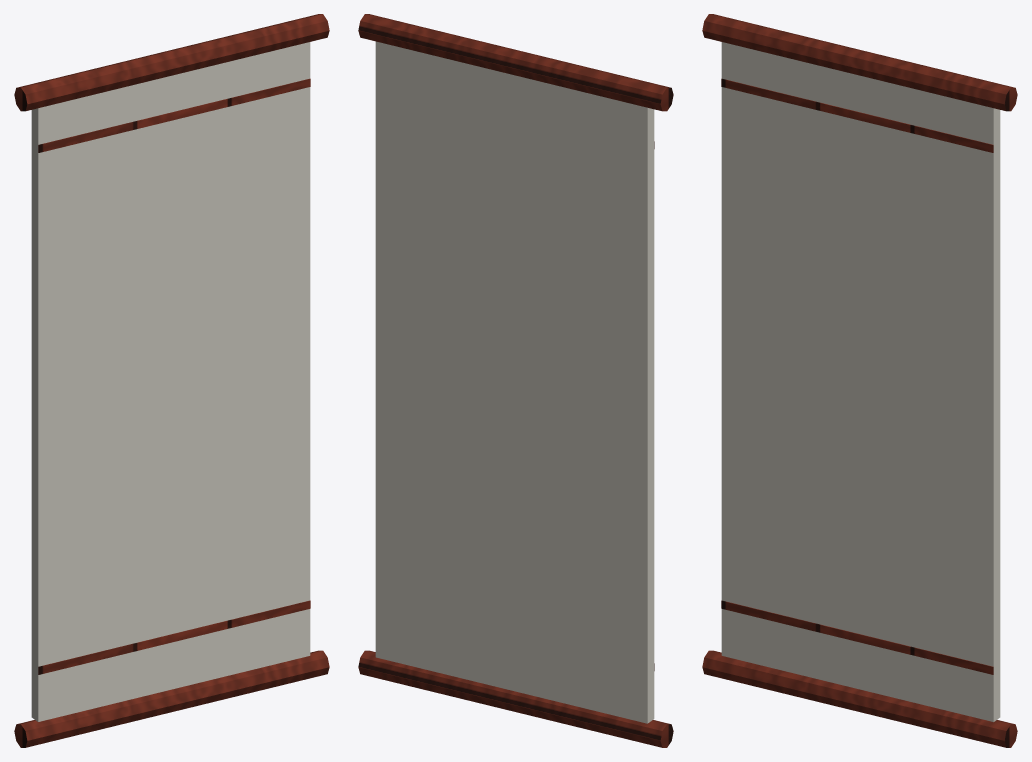
Rendered from Scroll.fbx.
The picture shows the model from 3 angles, left to right: view 1: azimuth 30°, elevation 25°; view 2: azimuth 150°, elevation 25°; view 3: azimuth 330°, elevation 25°; orthographic projection.
Parts seen in each view (by area): view 1: Scroll; view 2: Scroll; view 3: Scroll.
Boxes of the visible parts, x1,y1,x2,y2 form: Scroll: [14, 14, 329, 747]; Scroll: [358, 14, 673, 747]; Scroll: [702, 14, 1017, 747].
Size of the model in its own units: 0.8 by 1.67 by 0.06.
2 materials, 1 textured.
